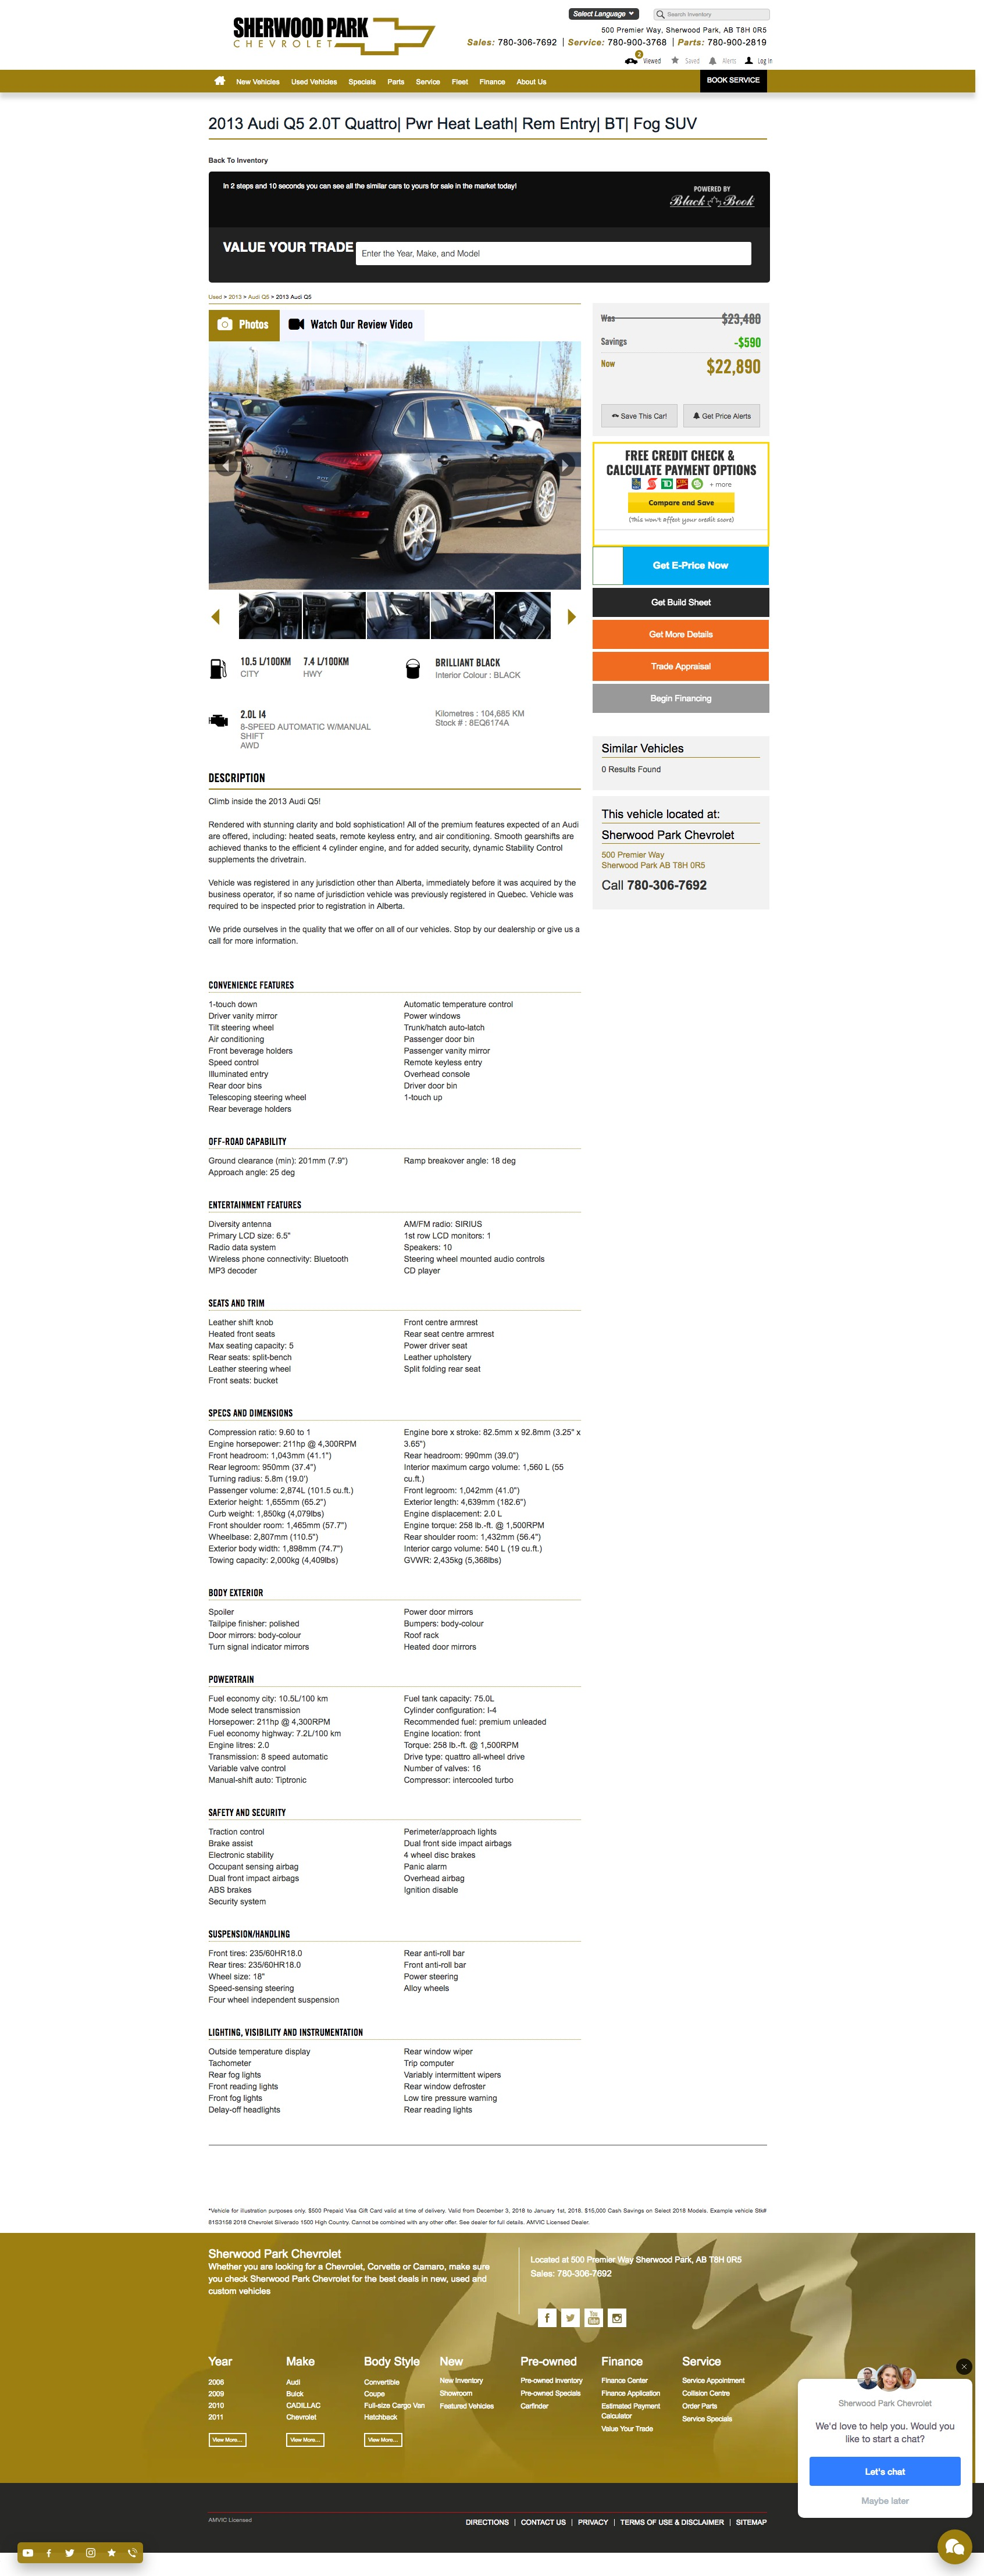car: (568, 610, 577, 626)
